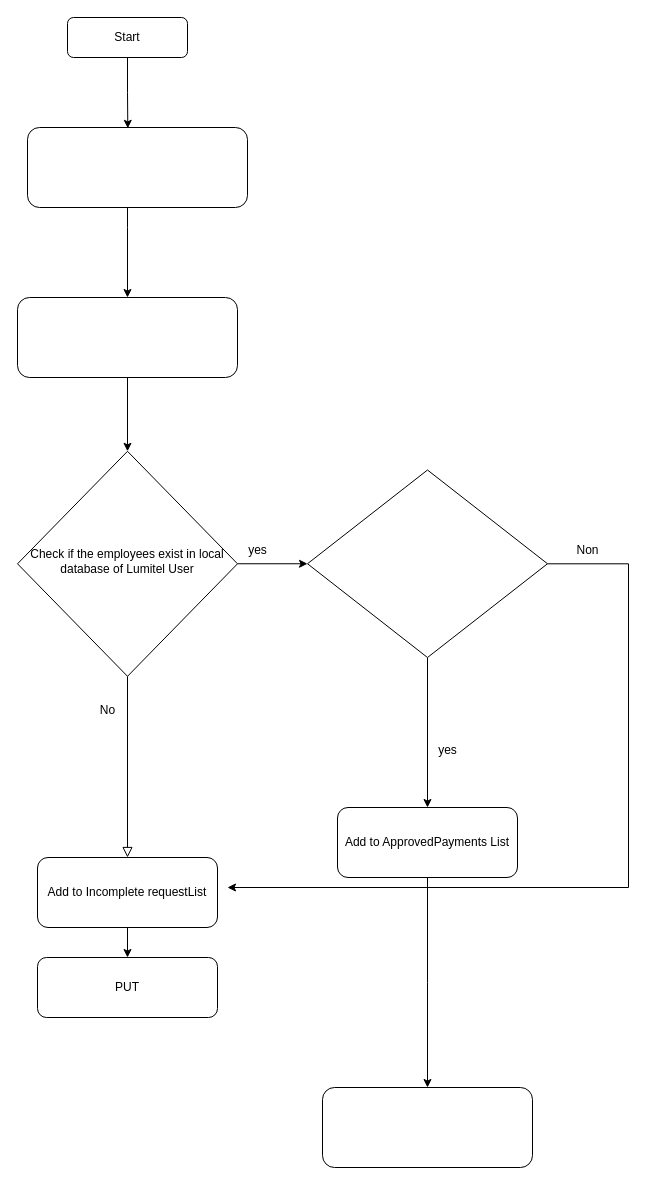
The diagram is 654 pixels wide and 1185 high, and some of its shapes have lost their labels. Each missing label, with the centre of its shape:
"Call Merankabandi API to Retrieve Payment Requests" belongs at (127,337).
"Check if Employee Has Lumitel SIM Card and Lumicash Service" belongs at (427,563).
"Receive HTTP GET Request from WorldBank" belongs at (137,167).
